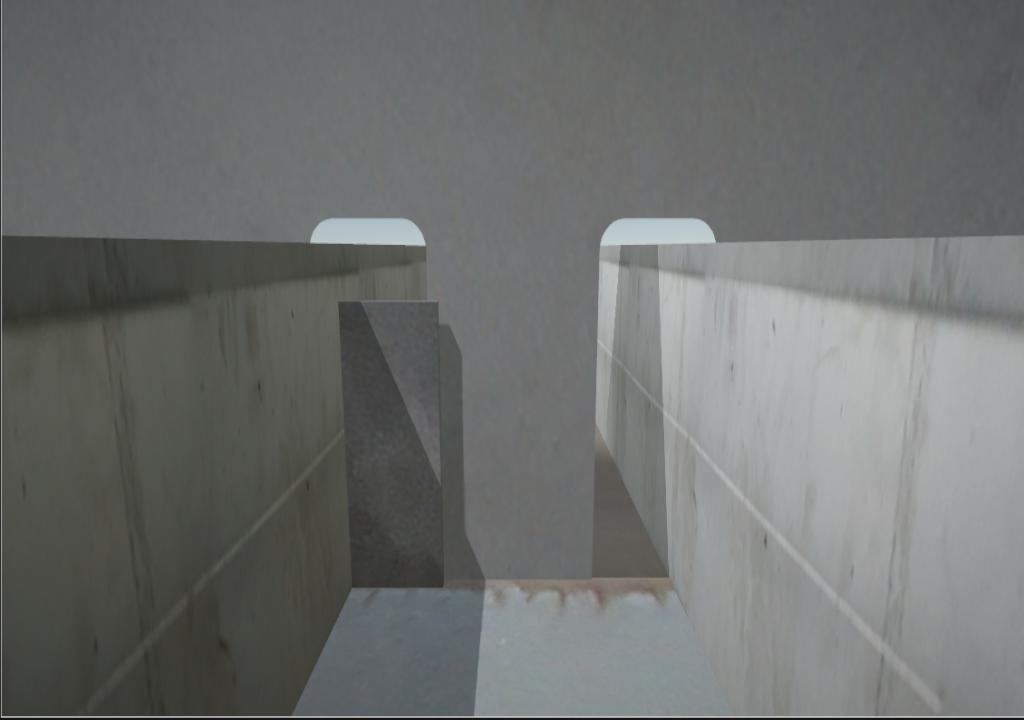fillet_yong_jeop_jang: (455, 566, 613, 586)
plate_CP01: (341, 299, 449, 588)
